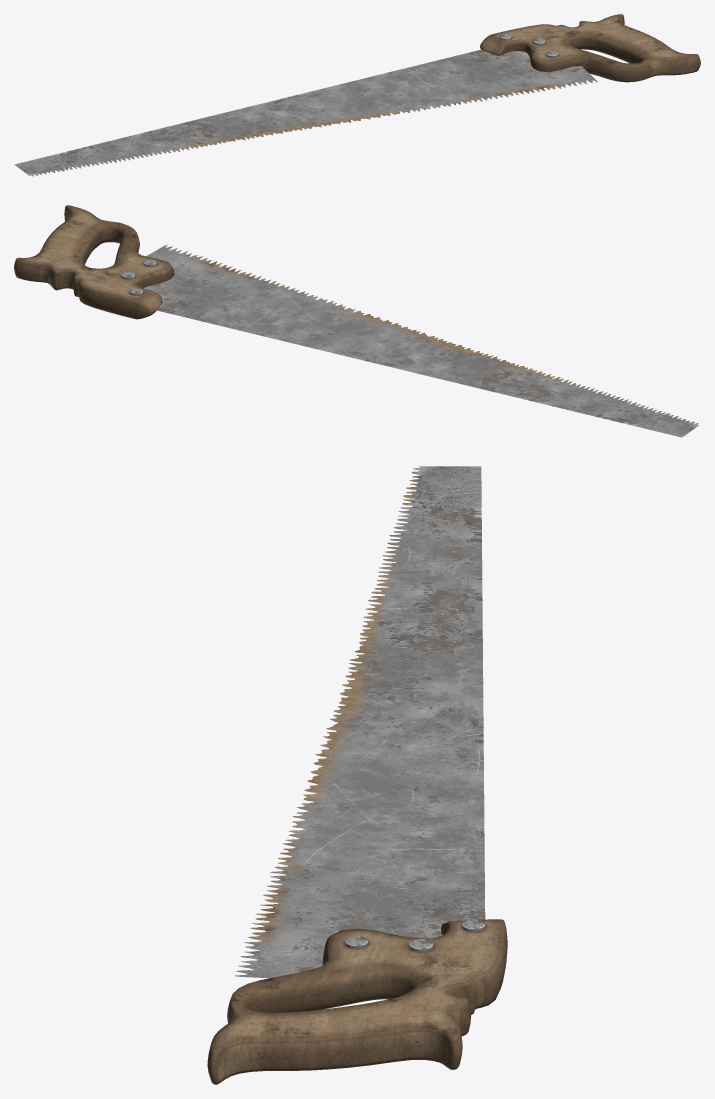
Rendered from saw.glb.
The picture shows the model from 3 angles, top to bottom: view 1: azimuth 30°, elevation 25°; view 2: azimuth 150°, elevation 25°; view 3: azimuth 270°, elevation 25°; orthographic projection. The views are drawn at different scales.
Visible parts, largest first — view 1: saw.001_1; view 2: saw.001_1; view 3: saw.001_1.
Part boxes in pixels (x1,y1,x2,y2): saw.001_1: [14, 14, 700, 176]; saw.001_1: [14, 205, 698, 437]; saw.001_1: [207, 466, 507, 1084].
Size of the model in its own units: 13.42 by 0.3904 by 2.82.
1 material, 1 textured.
